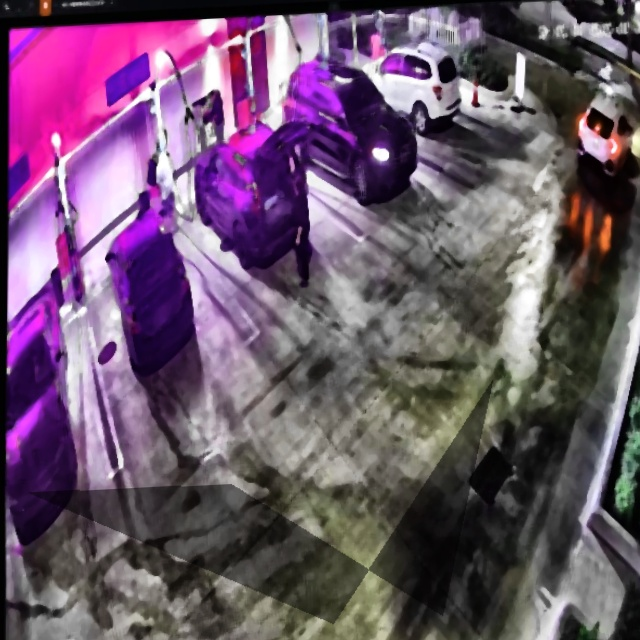Car: (283, 56, 412, 207), (193, 119, 307, 267), (108, 197, 193, 371)
